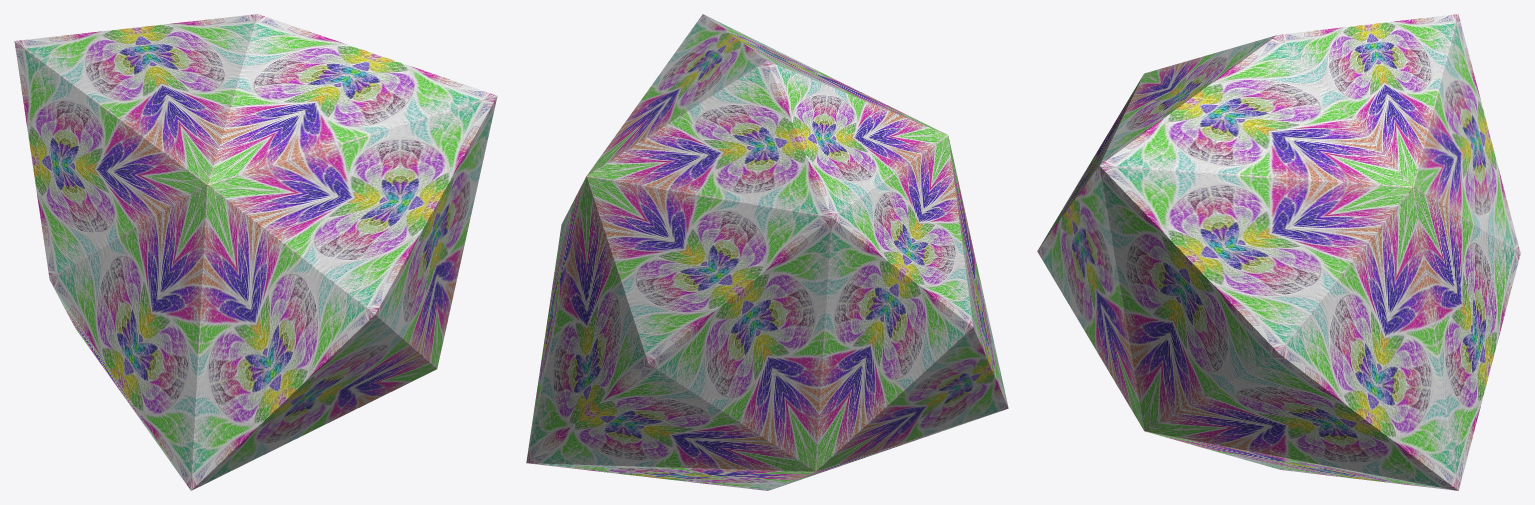
File: HexakisTetrahedron10.obj
3 views of the same model, side by side, from view 1: azimuth 30°, elevation 25°; view 2: azimuth 150°, elevation 25°; view 3: azimuth 270°, elevation 25° (orthographic).
Bounding box in the file's own units: 9.9 × 9.85 × 9.9.
1 material, 1 textured.
